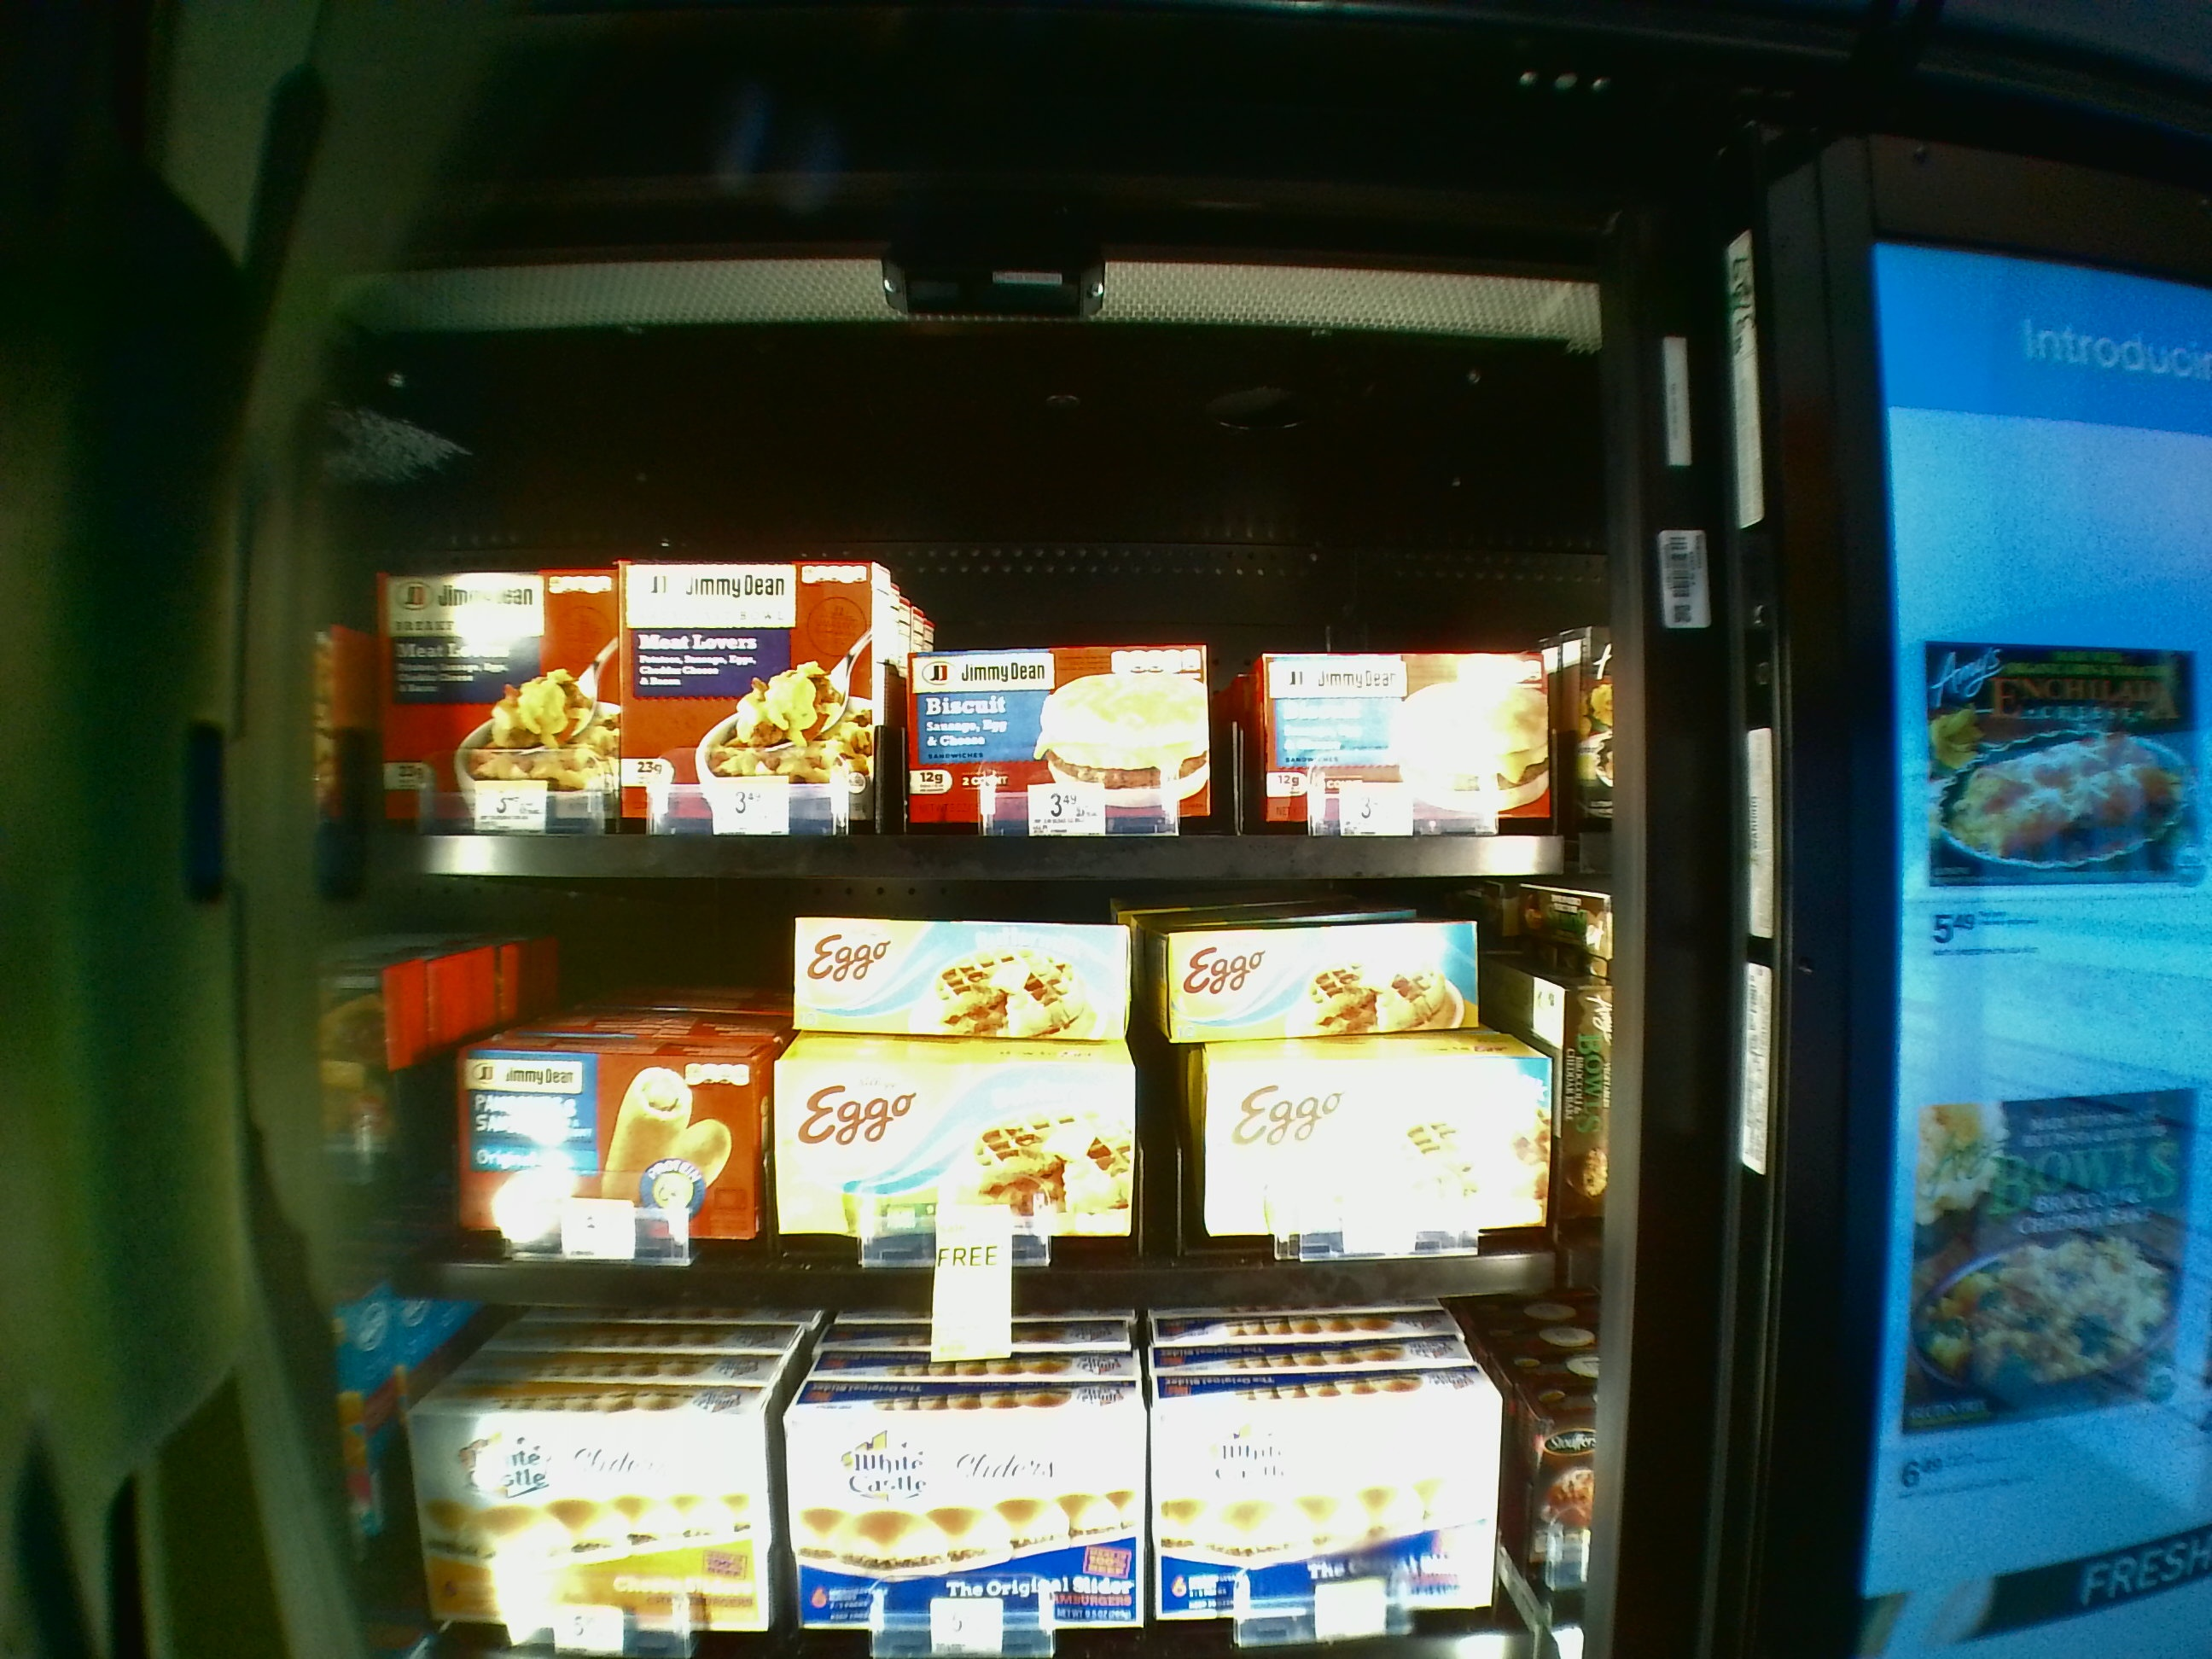shelf: (315, 342, 1606, 877), (315, 887, 1599, 1303)
